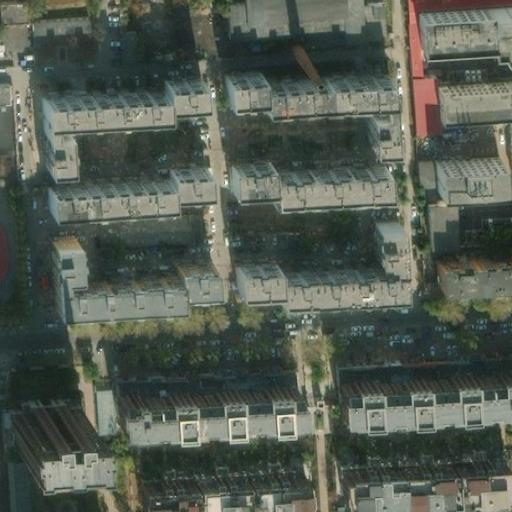building: (34, 72, 198, 165), (218, 70, 390, 144), (230, 224, 398, 298), (46, 239, 208, 310), (110, 384, 296, 433), (333, 369, 512, 417), (43, 163, 201, 211), (337, 458, 500, 501), (132, 471, 301, 512), (223, 161, 385, 200), (415, 8, 512, 61), (15, 429, 56, 512), (426, 154, 501, 197), (221, 0, 343, 25), (13, 391, 83, 431), (432, 254, 505, 288), (434, 90, 505, 124), (420, 196, 449, 251), (27, 14, 82, 37), (0, 80, 15, 156), (478, 212, 512, 233), (504, 104, 512, 188), (412, 158, 428, 183), (503, 244, 512, 277)
